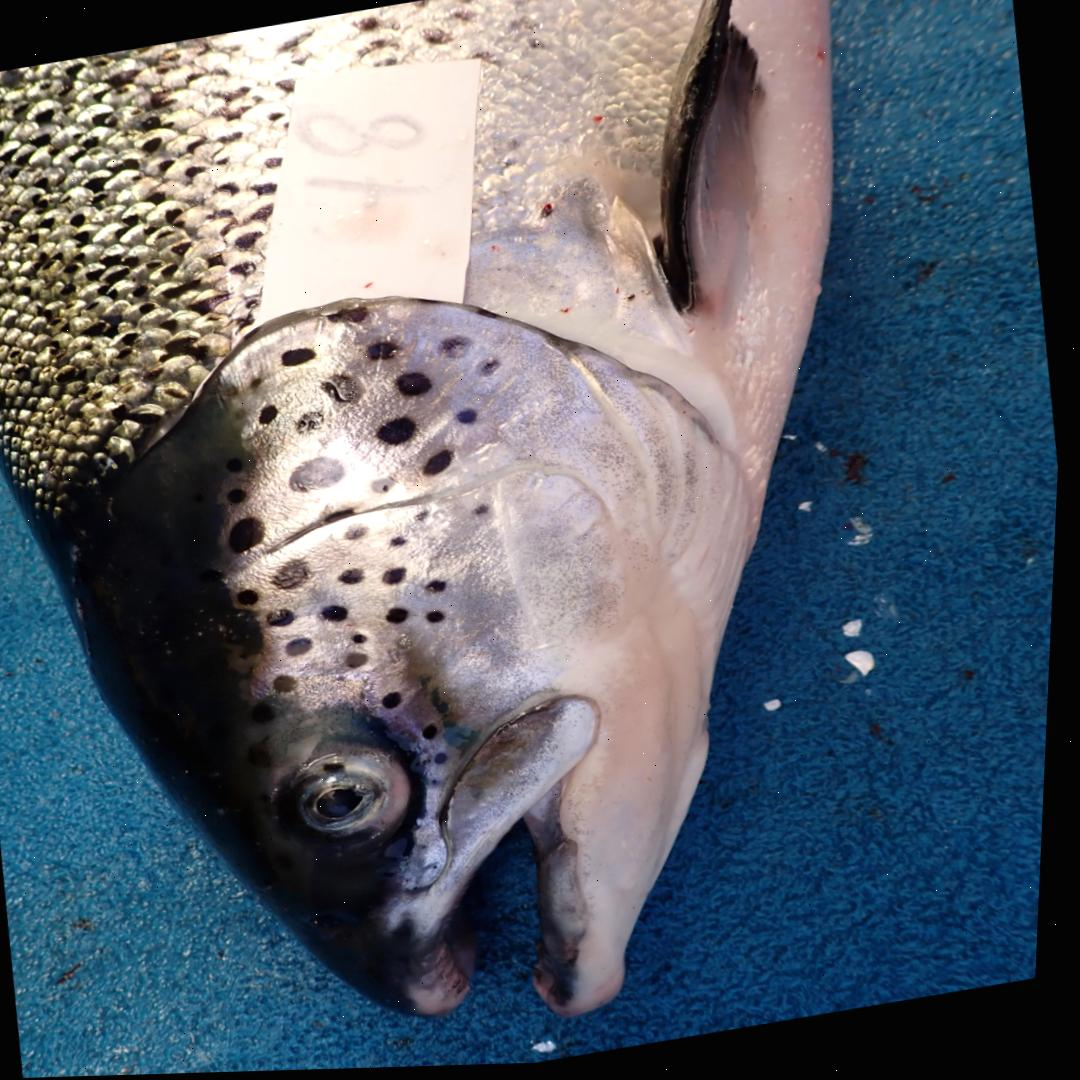spot: (293, 457, 348, 493), (233, 518, 268, 554), (278, 560, 315, 591), (324, 375, 362, 405), (380, 418, 420, 446), (398, 373, 433, 398), (427, 451, 458, 478), (321, 508, 360, 528), (331, 307, 371, 324), (369, 342, 401, 362), (283, 349, 318, 367), (441, 339, 469, 360), (299, 412, 327, 433), (271, 609, 300, 628), (325, 606, 354, 624), (291, 638, 317, 657), (278, 675, 304, 694), (480, 359, 503, 379), (374, 478, 400, 495), (387, 568, 410, 587), (242, 589, 265, 607), (388, 693, 409, 711), (344, 570, 367, 586), (391, 609, 414, 625), (348, 526, 371, 542), (350, 654, 373, 670), (459, 409, 480, 426), (263, 405, 281, 424), (431, 581, 452, 595), (231, 489, 249, 504), (229, 458, 246, 473), (429, 726, 444, 741), (432, 612, 449, 625), (478, 505, 495, 518), (418, 511, 435, 523), (226, 385, 242, 397), (441, 754, 455, 766), (251, 377, 265, 389), (395, 538, 410, 548), (238, 409, 250, 420), (359, 635, 371, 644)
